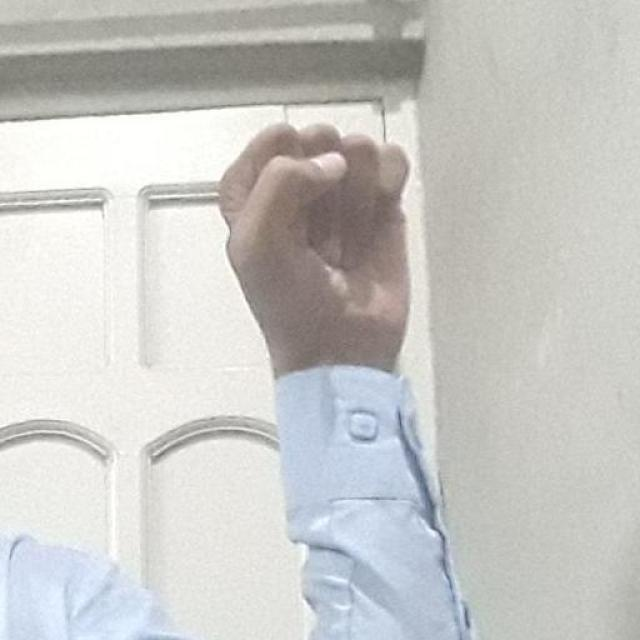hand: (215, 119, 413, 376)
